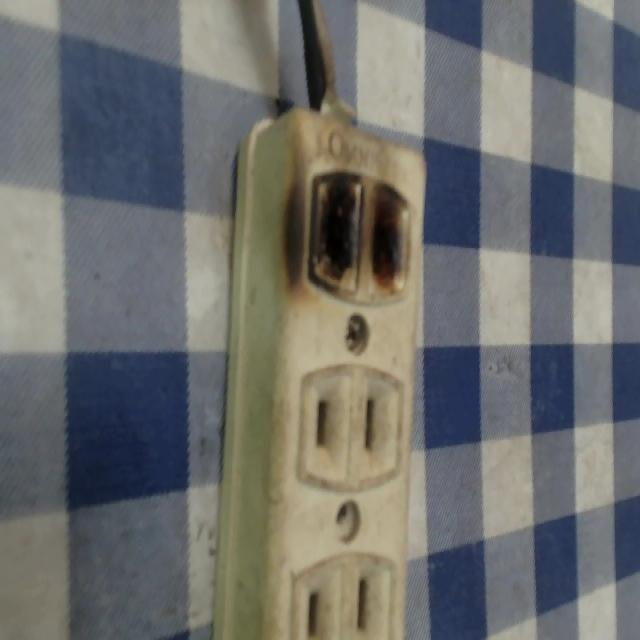-: (277, 150, 417, 314)
